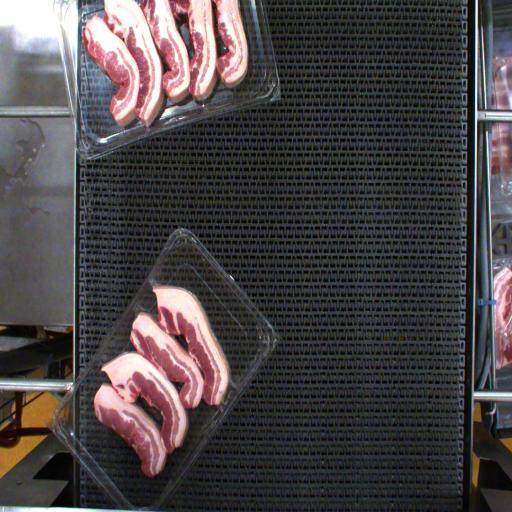packaging-error: (216, 369, 248, 396), (120, 299, 157, 321), (141, 271, 169, 293)
